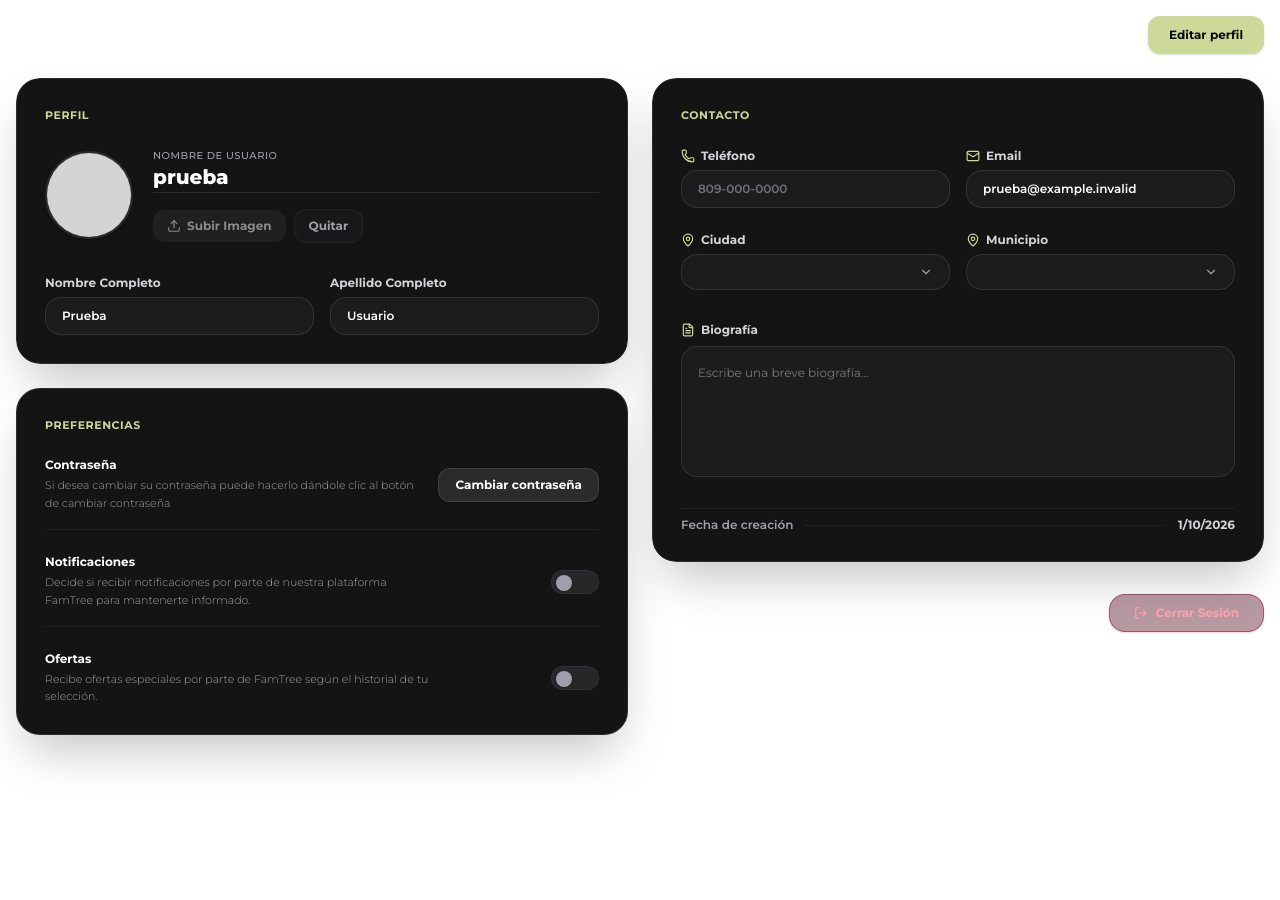
profile edit draft › does not persist photo removal when the edit is cancelled
Click the button "Editar perfil": (1206, 35) [1148, 16, 1264, 54]
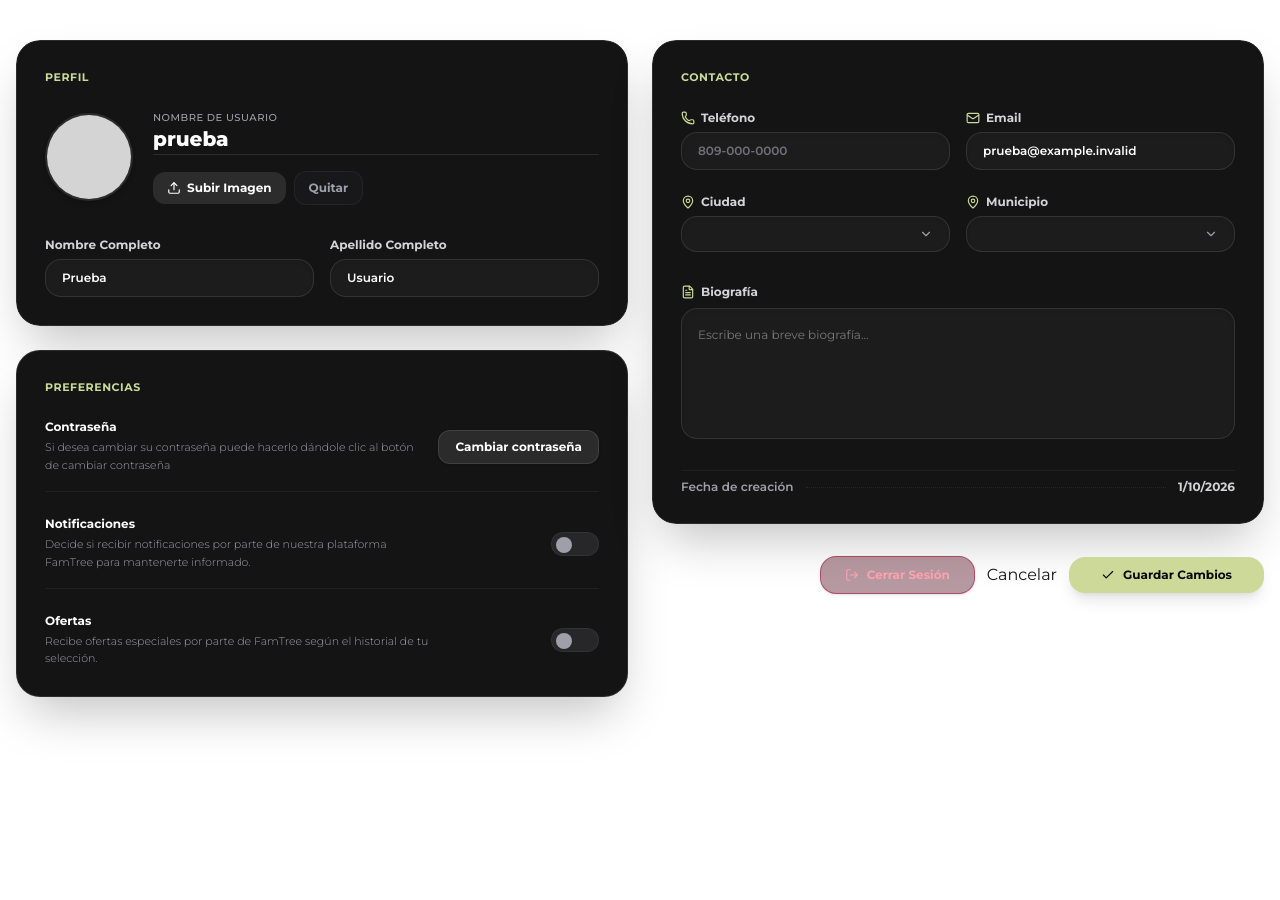
Click the button "Quitar": (328, 188) [294, 170, 363, 204]
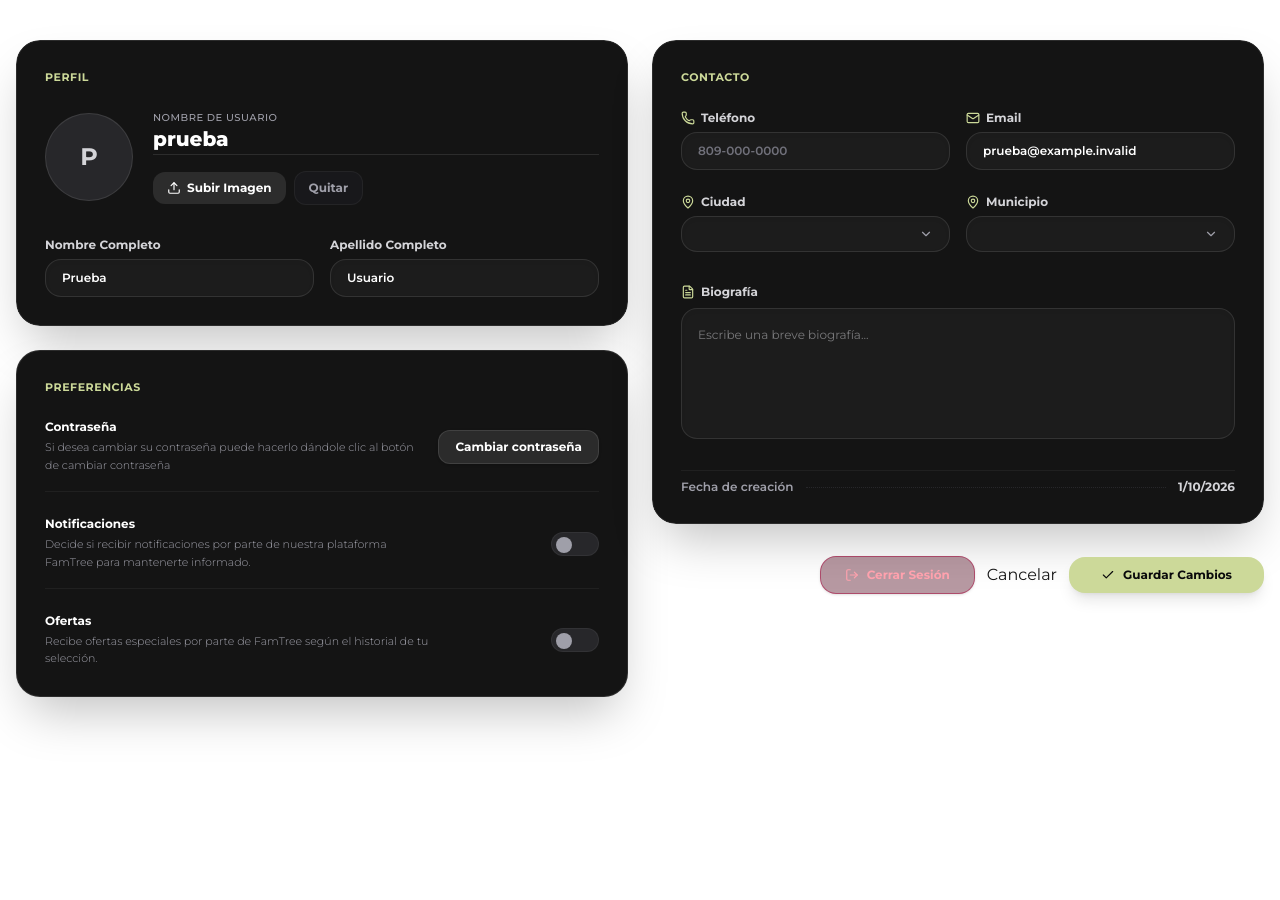
Click the button "Cancelar": (1022, 575) [987, 563, 1057, 587]
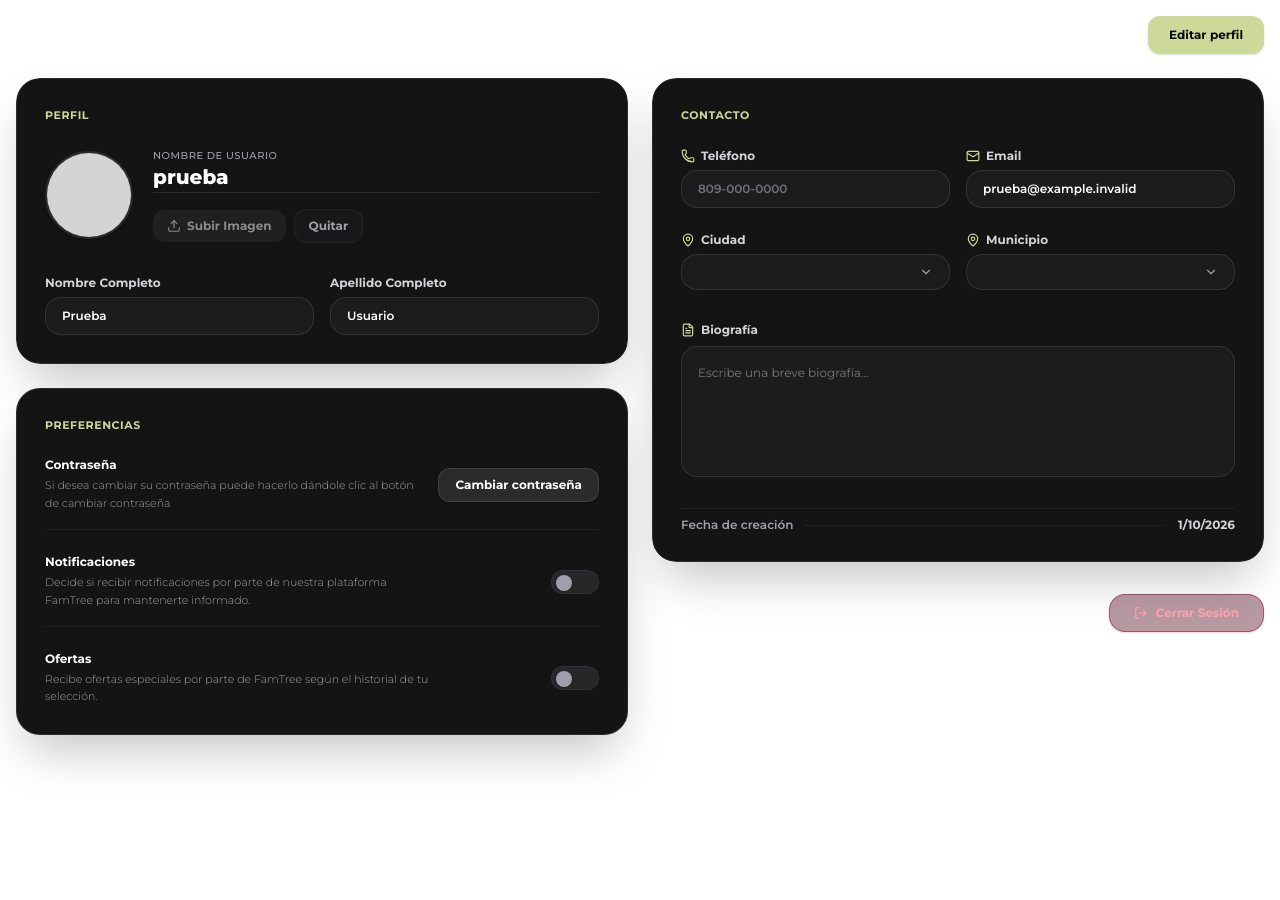
Expected: the button "Editar perfil" is shown, [1148, 16, 1264, 54]
